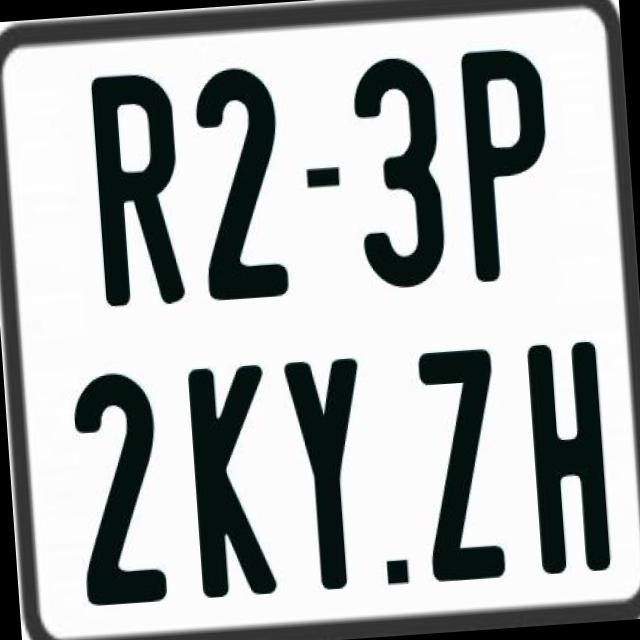2: (193, 64, 295, 300), (72, 368, 174, 604)
3: (347, 56, 449, 296)
H: (525, 341, 612, 580)
K: (186, 362, 276, 606)
P: (458, 44, 552, 278)
R: (89, 68, 185, 310)
Y: (280, 358, 370, 600)
Z: (413, 343, 507, 577)
